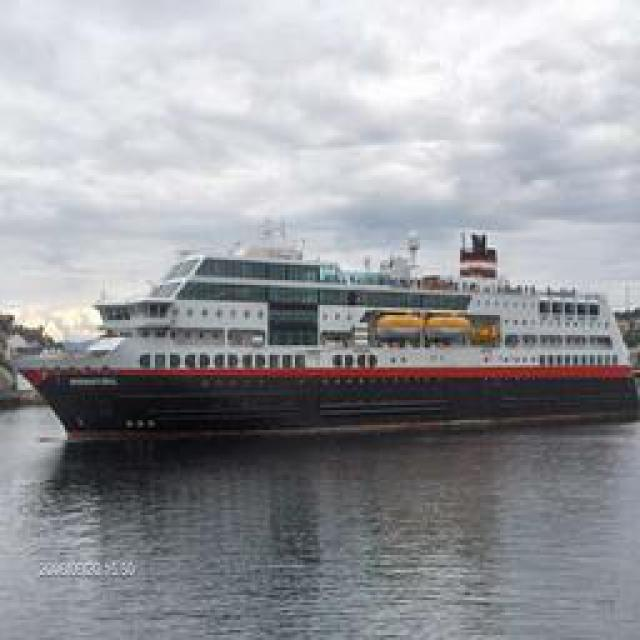Ship: (10, 247, 635, 440)
